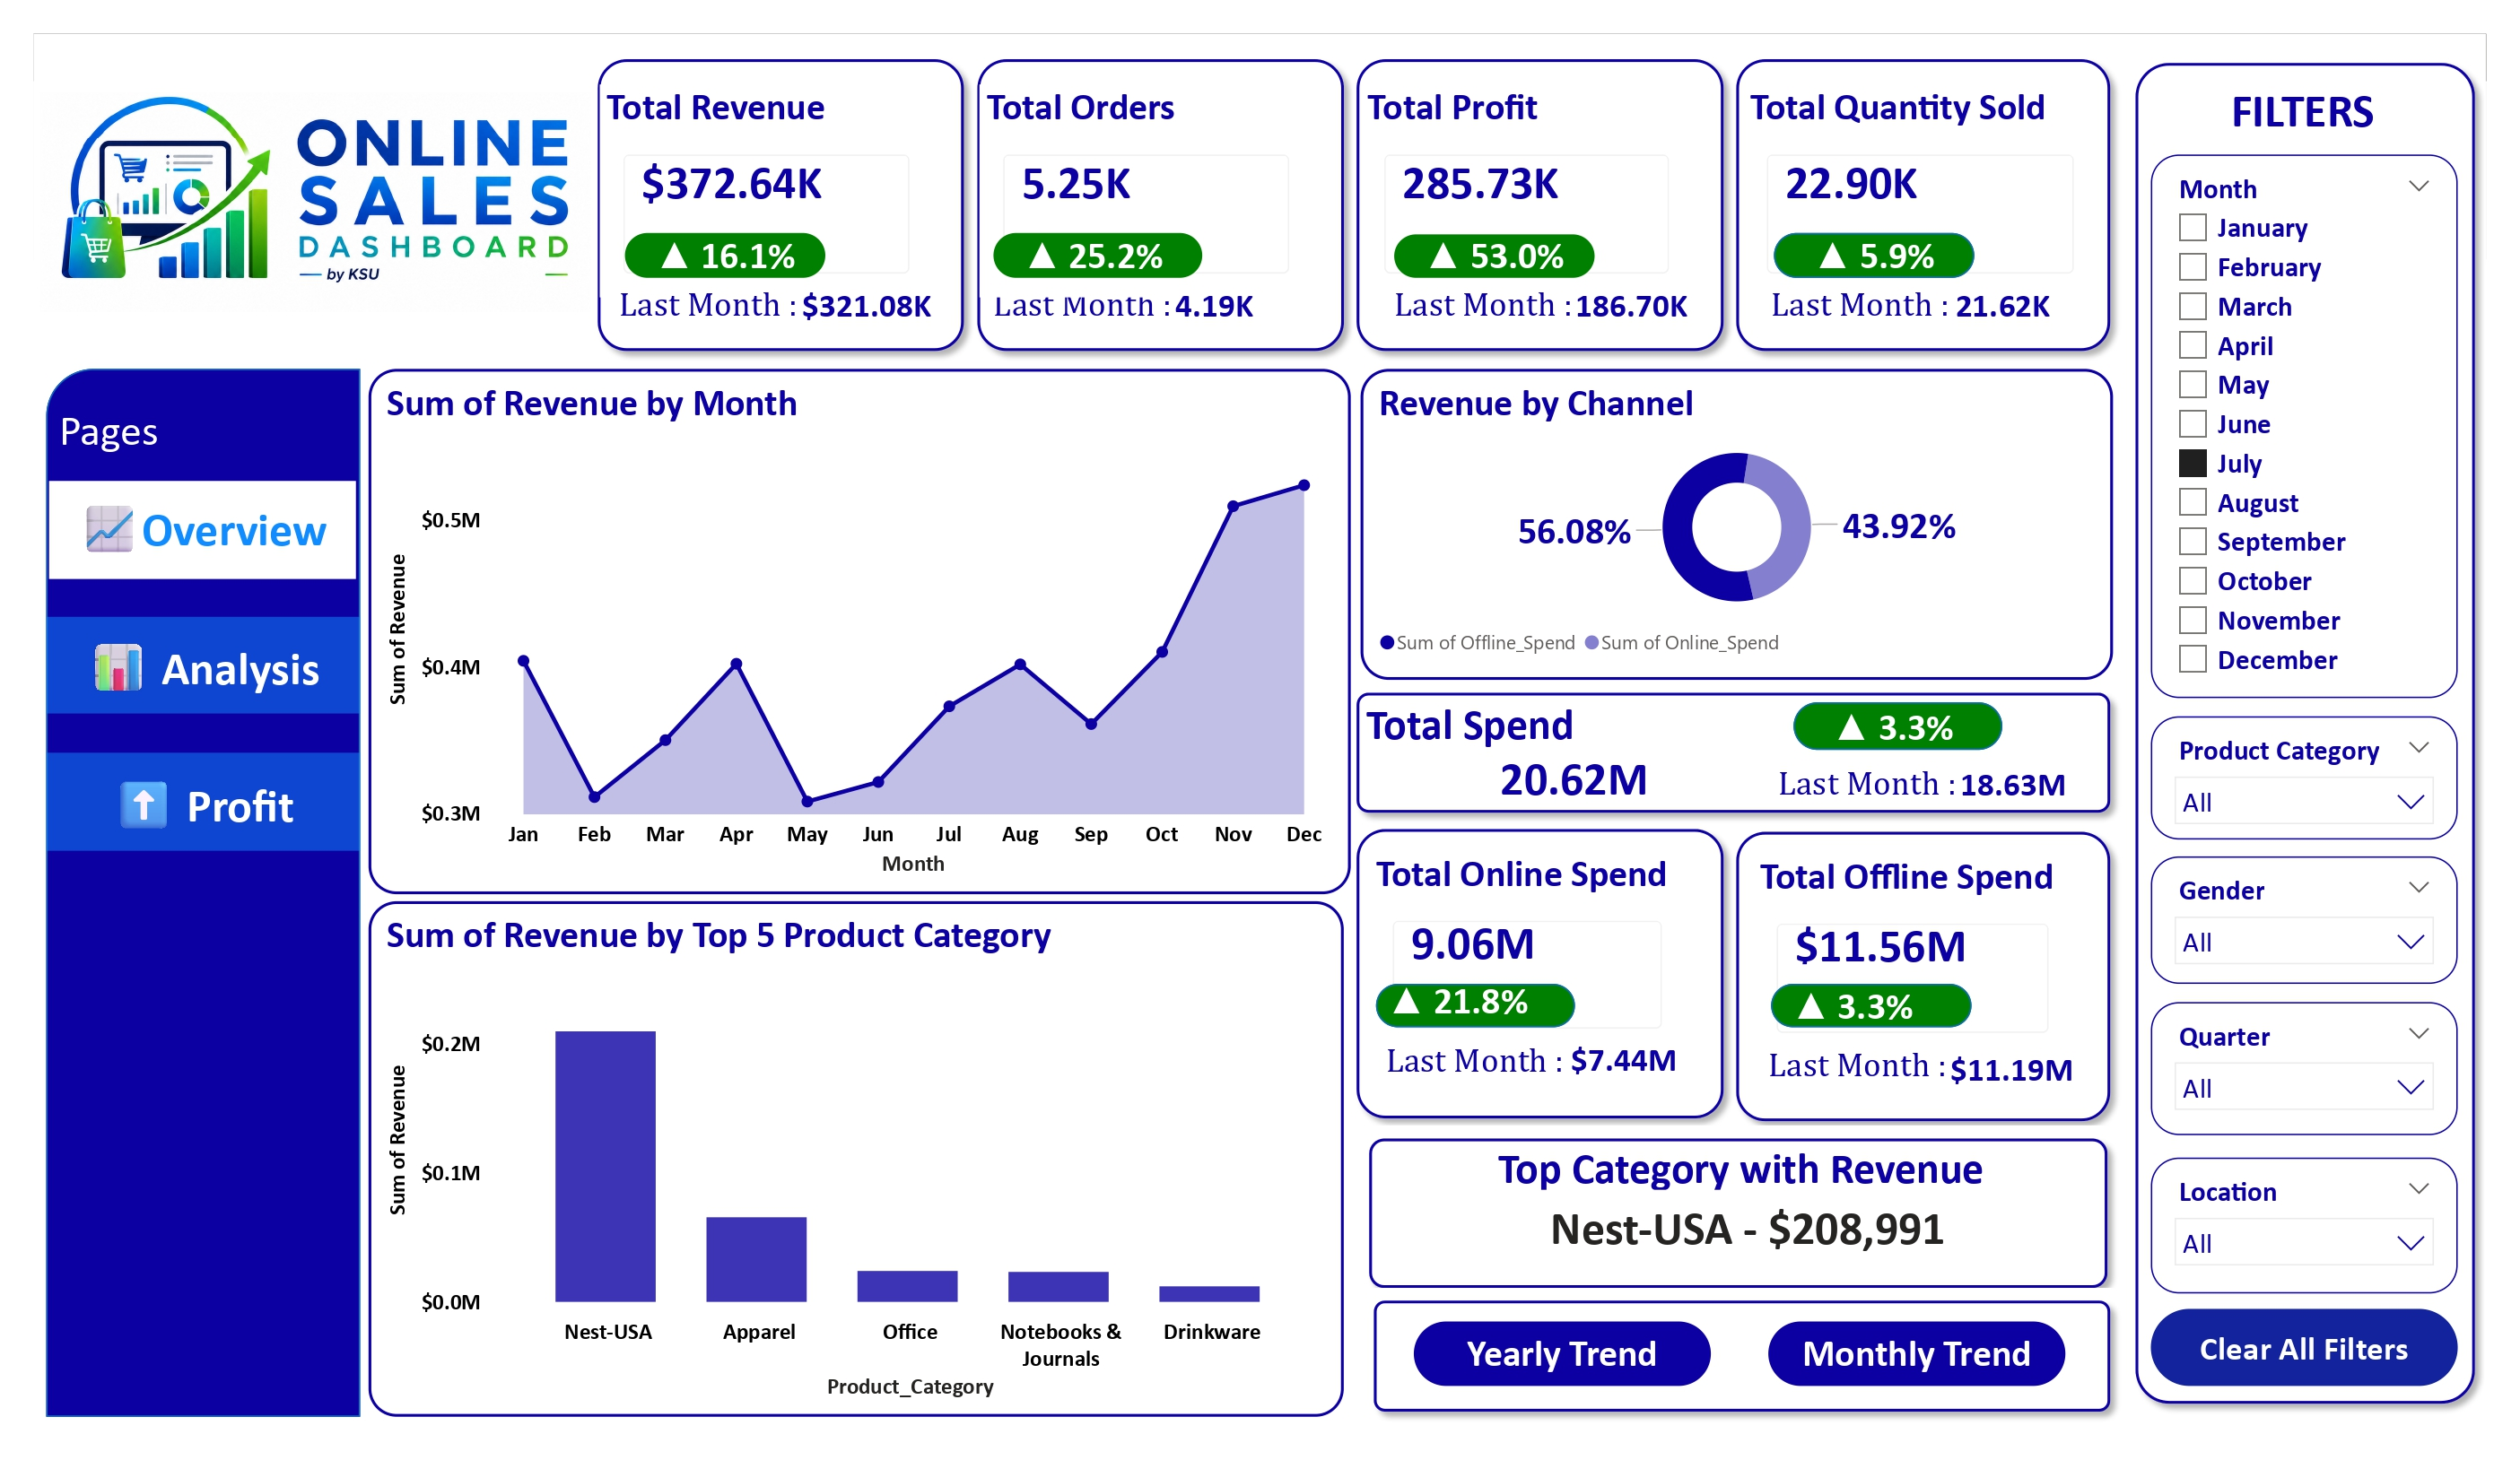

This screenshot's page, from the dashboard's own definition file:
{"tool":"powerbi","page":{"name":"Sales Overview Dashboard","canvas":[1750,1000],"ordinal":0},"visuals":[{"type":"shape","box":[9,239.5,223.6,747.8],"z":0},{"type":"shape","box":[1491,11.3,259.8,975.9],"z":1000},{"type":"shape","box":[935.3,460.9,555.7,103.9],"z":2000},{"type":"shape","box":[935.3,558,280,225],"z":3000},{"type":"shape","box":[1206.4,560.3,285,225],"z":4000},{"type":"shape","box":[684.5,142.3,142.3,31.6],"z":5000},{"type":"columnChart","title":"Sum of Revenue by Top 5 Product Category","fields":{"Category":["Sales.Product_Category"],"Y":["Sum(Sales.Revenue)"]},"box":[239.5,619,695.8,368.2],"z":6000},{"type":"donutChart","title":"Revenue by Channel","fields":{"Y":["Sum(Sales.Offline_Spend)","Sum(Sales.Online_Spend)"]},"box":[946.6,239.5,537.7,221.4],"z":8000},{"type":"slicer","fields":{"Values":["Date_Table.Month"]},"box":[1511.3,85.8,219.1,388.6],"z":9000},{"type":"shape","box":[393.1,9,280.1,225.9],"z":10000},{"type":"shape","box":[664.2,9,280.1,225.9],"z":11000},{"type":"shape","box":[935.3,9,280.1,225.9],"z":12000},{"type":"shape","box":[1206.4,9,284.6,225.9],"z":13000},{"type":"cardVisual","title":"Total Revenue ","fields":{"Data":["dax.Current_Month_Sale"]},"box":[408.9,33.9,237.2,151.4],"z":14000},{"type":"shape","box":[422.4,142.3,142.3,31.6],"z":15000},{"type":"card","fields":{"Values":["dax.MoM %"]},"box":[422.4,137.8,142.3,40.7],"z":16000},{"type":"card","fields":{"Values":["dax.Previous_month_sale"]},"box":[528.6,169.4,131,49.7],"z":18000},{"type":"cardVisual","title":"Total Orders","fields":{"Data":["dax.Total_Orders"]},"box":[675.5,36.1,237.2,151.4],"z":19000},{"type":"card","fields":{"Values":["dax.Previous_Month_Order"]},"box":[777.1,169.4,131,49.7],"z":20000},{"type":"shape","title":"Last Month : ","box":[417.9,178.5,144.6,31.6],"z":21000},{"type":"shape","box":[684.5,142.3,149.1,31.6],"z":22000},{"type":"card","fields":{"Values":["dax.MoM%_Order"]},"box":[684.5,137.8,142.3,40.7],"z":23000},{"type":"cardVisual","title":"Total Profit","fields":{"Data":["dax.Total_Porfit"]},"box":[946.6,36.1,237.2,151.4],"z":24000},{"type":"card","fields":{"Values":["dax.Previous_Month_Profit"]},"box":[1075.3,169.4,131,49.7],"z":25000},{"type":"shape","title":"Last Month : ","box":[971.4,178.5,144.6,31.6],"z":26000},{"type":"shape","box":[971.2,142.5,142.5,31.2],"z":27000},{"type":"card","fields":{"Values":["dax.MoM_profit %"]},"box":[971.4,137.8,142.3,40.7],"z":28000},{"type":"cardVisual","title":"Total Quantity Sold","fields":{"Data":["dax.Total_Quantity"]},"box":[1219.9,36.1,253,151.4],"z":29000},{"type":"card","fields":{"Values":["dax.Previous_month_Quantity_Sold"]},"box":[1339.6,169.4,131,49.7],"z":30000},{"type":"shape","title":"Last Month : ","box":[1240.2,178.5,144.6,31.6],"z":31000},{"type":"shape","box":[1242.5,142.3,142.3,31.6],"z":32000},{"type":"card","fields":{"Values":["dax.MoM_Quantity_Sold %"]},"box":[1242.5,137.8,142.3,40.7],"z":33000},{"type":"cardVisual","title":"Total Online Spend","fields":{"Data":["dax.Total_Online_Spend"]},"box":[953.3,582.8,225.9,144.6],"z":34000},{"type":"cardVisual","title":"Total Offline Spend","fields":{"Data":["dax.Total_Offline_Spend"]},"box":[1226.7,585.1,228.2,144.6],"z":35000},{"type":"card","fields":{"Values":["dax.Previous_Month_Online_Spend"]},"box":[1073.1,707.1,124.2,49.7],"z":36000},{"type":"shape","title":"Last Month : ","box":[964.6,718.4,144.6,31.6],"z":37000},{"type":"shape","box":[957.9,677.7,142.3,31.6],"z":38000},{"type":"card","fields":{"Values":["dax.MoM%_Online_Spend"]},"box":[939.8,670.9,153.6,38.4],"z":39000},{"type":"card","fields":{"Values":["dax.Previous_Month_Offline_Spend"]},"box":[1348.7,713.9,126.5,49.7],"z":40000},{"type":"shape","title":"Last Month : ","box":[1238,720.6,144.6,31.6],"z":41000},{"type":"shape","box":[1240.2,677.7,142.3,31.6],"z":42000},{"type":"card","fields":{"Values":["dax.MoM%_Offline_Spend"]},"box":[1226.7,673.2,142.3,40.7],"z":43000},{"type":"card","title":"Total Spend","fields":{"Values":["dax.Total_Spend"]},"box":[1016.6,501.5,164.9,56.5],"z":44000},{"type":"card","fields":{"Values":["dax.Previous_Month_Total_Spend"]},"box":[1350.9,510.6,124.2,49.7],"z":45000},{"type":"shape","title":"Last Month : ","box":[1244.8,519.6,144.6,31.6],"z":46000},{"type":"shape","box":[1256.1,476.7,149.1,33.9],"z":47000},{"type":"card","fields":{"Values":["dax.MoM%_Offline_Spend"]},"box":[1256.1,474.4,142.3,40.7],"z":48000},{"type":"shape","title":"Total Spend","box":[951.1,474.4,162.7,38.4],"z":49000},{"type":"shape","box":[944.3,779.4,544.4,124.2],"z":50000},{"type":"slicer","fields":{"Values":["Sales.Product_Category"]},"box":[1511.3,487.4,219.1,88.1],"z":51000},{"type":"slicer","fields":{"Values":["Date_Table.Quarter"]},"box":[1511.3,691.3,219.1,94.9],"z":52000},{"type":"slicer","fields":{"Values":["Sales.Gender"]},"box":[1511.3,587.4,219.1,90.4],"z":53000},{"type":"shape","title":"FILTERS","box":[1567.8,33.9,110.7,40.7],"z":54000},{"type":"cardVisual","title":"Top Category with Revenue","fields":{"Data":["dax.Top Category with Revenue"]},"box":[962.4,790.7,512.8,42.9],"z":55000},{"type":"lineChart","fields":{"Y":["Sum(Sales.Revenue)"],"Category":["Date_Table.Munthsort"]},"box":[239.5,239.5,700.3,375],"z":56000},{"type":"card","fields":{"Values":["dax.Top Category with Revenue"]},"box":[1073.1,824.6,300.5,52],"z":57000},{"type":"shape","box":[946.6,894.6,544.4,97.1],"z":58000},{"type":"actionButton","box":[985,919.4,212.4,45.2],"z":59000},{"type":"actionButton","box":[1238,919.4,212.4,45.2],"z":60000},{"type":"image","box":[4.5,4.5,393.1,230.4],"z":61000},{"type":"actionButton","box":[9,415.7,223.6,70],"z":62000},{"type":"actionButton","box":[11.3,318.5,219.1,70],"z":63000},{"type":"shape","title":"Pages","box":[18.1,264.3,110.7,40.7],"z":64000},{"type":"slicer","fields":{"Values":["Sales.Location"]},"box":[1511.3,802,219.1,97.1],"z":65000},{"type":"actionButton","box":[9,512.8,223.6,70],"z":66000},{"type":"shape","box":[1511.3,910.4,219.1,54.2],"z":66501},{"type":"shape","title":"Last Month : ","box":[684.5,178.5,144.6,31.6],"z":67001}]}

Visuals, with their boxes on the page's 1750x1000 design canvas (x1, y1, x2, y2). These are canvas units, not pixel positions in the 2520x1469 screenshot, which may show the page scaled, cropped or inside an application window:
shape: {"x1": 9, "y1": 240, "x2": 233, "y2": 987}
shape: {"x1": 1491, "y1": 11, "x2": 1751, "y2": 987}
shape: {"x1": 935, "y1": 461, "x2": 1491, "y2": 565}
shape: {"x1": 935, "y1": 558, "x2": 1215, "y2": 783}
shape: {"x1": 1206, "y1": 560, "x2": 1491, "y2": 785}
shape: {"x1": 684, "y1": 142, "x2": 827, "y2": 174}
"Sum of Revenue by Top 5 Product Category" columnChart: {"x1": 240, "y1": 619, "x2": 935, "y2": 987}
"Revenue by Channel" donutChart: {"x1": 947, "y1": 240, "x2": 1484, "y2": 461}
slicer - Date_Table.Month: {"x1": 1511, "y1": 86, "x2": 1730, "y2": 474}
shape: {"x1": 393, "y1": 9, "x2": 673, "y2": 235}
shape: {"x1": 664, "y1": 9, "x2": 944, "y2": 235}
shape: {"x1": 935, "y1": 9, "x2": 1215, "y2": 235}
shape: {"x1": 1206, "y1": 9, "x2": 1491, "y2": 235}
"Total Revenue " cardVisual: {"x1": 409, "y1": 34, "x2": 646, "y2": 185}
shape: {"x1": 422, "y1": 142, "x2": 565, "y2": 174}
card - dax.MoM %: {"x1": 422, "y1": 138, "x2": 565, "y2": 178}
card - dax.Previous_month_sale: {"x1": 529, "y1": 169, "x2": 660, "y2": 219}
"Total Orders" cardVisual: {"x1": 676, "y1": 36, "x2": 913, "y2": 188}
card - dax.Previous_Month_Order: {"x1": 777, "y1": 169, "x2": 908, "y2": 219}
"Last Month : " shape: {"x1": 418, "y1": 178, "x2": 562, "y2": 210}
shape: {"x1": 684, "y1": 142, "x2": 834, "y2": 174}
card - dax.MoM%_Order: {"x1": 684, "y1": 138, "x2": 827, "y2": 178}
"Total Profit" cardVisual: {"x1": 947, "y1": 36, "x2": 1184, "y2": 188}
card - dax.Previous_Month_Profit: {"x1": 1075, "y1": 169, "x2": 1206, "y2": 219}
"Last Month : " shape: {"x1": 971, "y1": 178, "x2": 1116, "y2": 210}
shape: {"x1": 971, "y1": 142, "x2": 1114, "y2": 174}
card - dax.MoM_profit %: {"x1": 971, "y1": 138, "x2": 1114, "y2": 178}
"Total Quantity Sold" cardVisual: {"x1": 1220, "y1": 36, "x2": 1473, "y2": 188}
card - dax.Previous_month_Quantity_Sold: {"x1": 1340, "y1": 169, "x2": 1471, "y2": 219}
"Last Month : " shape: {"x1": 1240, "y1": 178, "x2": 1385, "y2": 210}
shape: {"x1": 1242, "y1": 142, "x2": 1385, "y2": 174}
card - dax.MoM_Quantity_Sold %: {"x1": 1242, "y1": 138, "x2": 1385, "y2": 178}
"Total Online Spend" cardVisual: {"x1": 953, "y1": 583, "x2": 1179, "y2": 727}
"Total Offline Spend" cardVisual: {"x1": 1227, "y1": 585, "x2": 1455, "y2": 730}
card - dax.Previous_Month_Online_Spend: {"x1": 1073, "y1": 707, "x2": 1197, "y2": 757}
"Last Month : " shape: {"x1": 965, "y1": 718, "x2": 1109, "y2": 750}
shape: {"x1": 958, "y1": 678, "x2": 1100, "y2": 709}
card - dax.MoM%_Online_Spend: {"x1": 940, "y1": 671, "x2": 1093, "y2": 709}
card - dax.Previous_Month_Offline_Spend: {"x1": 1349, "y1": 714, "x2": 1475, "y2": 764}
"Last Month : " shape: {"x1": 1238, "y1": 721, "x2": 1383, "y2": 752}
shape: {"x1": 1240, "y1": 678, "x2": 1382, "y2": 709}
card - dax.MoM%_Offline_Spend: {"x1": 1227, "y1": 673, "x2": 1369, "y2": 714}
"Total Spend" card: {"x1": 1017, "y1": 502, "x2": 1182, "y2": 558}
card - dax.Previous_Month_Total_Spend: {"x1": 1351, "y1": 511, "x2": 1475, "y2": 560}
"Last Month : " shape: {"x1": 1245, "y1": 520, "x2": 1389, "y2": 551}
shape: {"x1": 1256, "y1": 477, "x2": 1405, "y2": 511}
card - dax.MoM%_Offline_Spend: {"x1": 1256, "y1": 474, "x2": 1398, "y2": 515}
"Total Spend" shape: {"x1": 951, "y1": 474, "x2": 1114, "y2": 513}
shape: {"x1": 944, "y1": 779, "x2": 1489, "y2": 904}
slicer - Sales.Product_Category: {"x1": 1511, "y1": 487, "x2": 1730, "y2": 576}
slicer - Date_Table.Quarter: {"x1": 1511, "y1": 691, "x2": 1730, "y2": 786}
slicer - Sales.Gender: {"x1": 1511, "y1": 587, "x2": 1730, "y2": 678}
"FILTERS" shape: {"x1": 1568, "y1": 34, "x2": 1678, "y2": 75}
"Top Category with Revenue" cardVisual: {"x1": 962, "y1": 791, "x2": 1475, "y2": 834}
lineChart - Sum(Sales.Revenue) x Date_Table.Munthsort: {"x1": 240, "y1": 240, "x2": 940, "y2": 614}
card - dax.Top Category with Revenue: {"x1": 1073, "y1": 825, "x2": 1374, "y2": 877}
shape: {"x1": 947, "y1": 895, "x2": 1491, "y2": 992}
actionButton: {"x1": 985, "y1": 919, "x2": 1197, "y2": 965}
actionButton: {"x1": 1238, "y1": 919, "x2": 1450, "y2": 965}
image: {"x1": 4, "y1": 4, "x2": 398, "y2": 235}
actionButton: {"x1": 9, "y1": 416, "x2": 233, "y2": 486}
actionButton: {"x1": 11, "y1": 318, "x2": 230, "y2": 388}
"Pages" shape: {"x1": 18, "y1": 264, "x2": 129, "y2": 305}
slicer - Sales.Location: {"x1": 1511, "y1": 802, "x2": 1730, "y2": 899}
actionButton: {"x1": 9, "y1": 513, "x2": 233, "y2": 583}
shape: {"x1": 1511, "y1": 910, "x2": 1730, "y2": 965}
"Last Month : " shape: {"x1": 684, "y1": 178, "x2": 829, "y2": 210}
